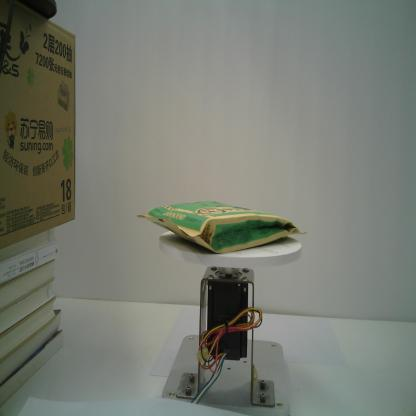Dried Food: (136, 198, 309, 256)
